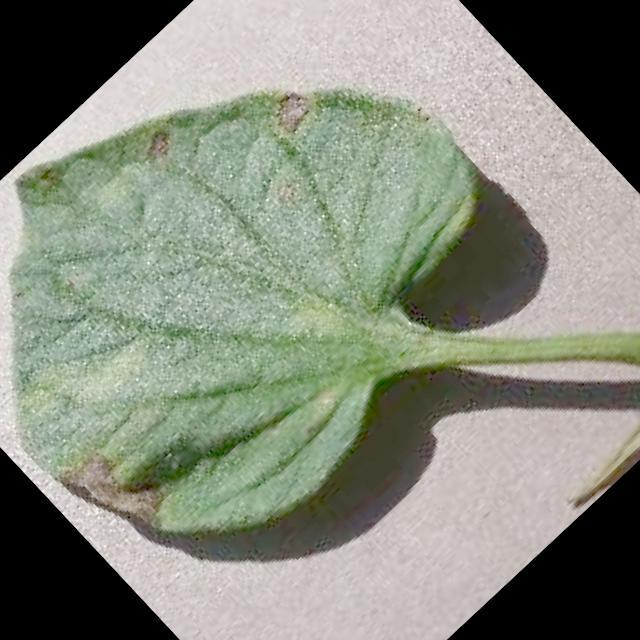Tomato Early blight leaf: (0, 0, 563, 618)
